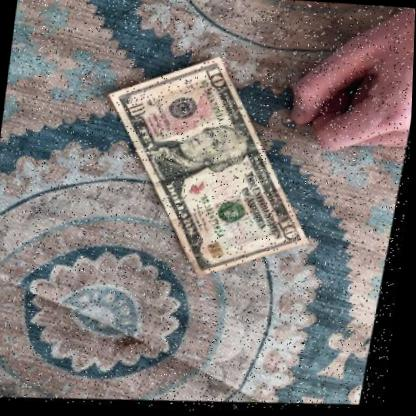ten-front: (111, 58, 313, 280)
